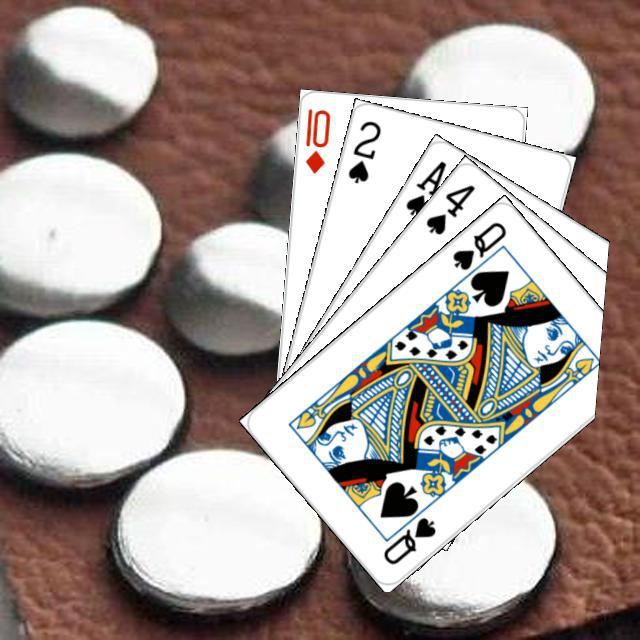10d: (300, 104, 332, 175)
2s: (342, 116, 383, 185)
4s: (420, 179, 477, 237)
As: (400, 155, 449, 218)
Qs: (447, 216, 508, 272), (378, 512, 438, 567)
